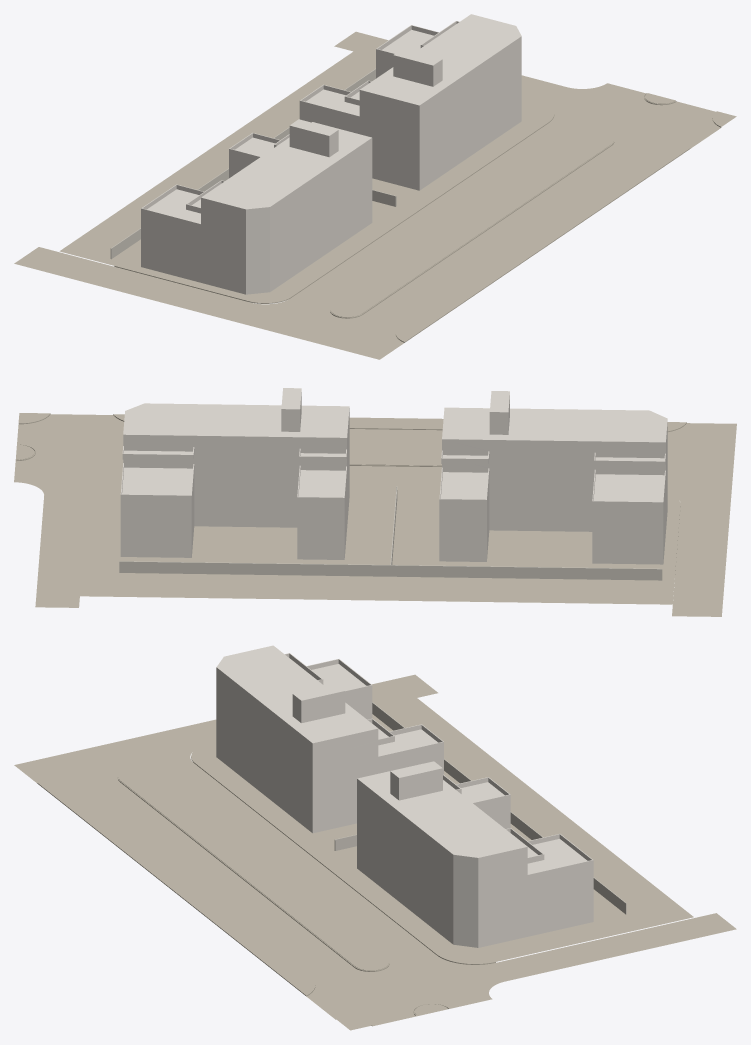
The picture shows the model from 3 angles, top to bottom: view 1: azimuth 30°, elevation 25°; view 2: azimuth 150°, elevation 25°; view 3: azimuth 270°, elevation 25°; orthographic projection. The views are drawn at different scales.
Parts seen in each view (by area): view 1: entorno_suelo, B0_edif, B1_edif, B0_suelo, B1_suelo, entorno_cerco; view 2: entorno_suelo, B1_edif, B0_edif, entorno_cerco, B1_suelo, B0_suelo; view 3: entorno_suelo, B1_edif, B0_edif, B1_suelo, B0_suelo, entorno_cerco.
Part boxes in pixels (x1,y1,x2,y2): entorno_suelo: (14,31,736,359); B0_edif: (141,119,372,294); B1_edif: (299,14,521,190); B0_suelo: (59,217,400,302); B1_suelo: (336,51,554,201); entorno_cerco: (111,68,396,258); entorno_suelo: (14,413,736,616); B1_edif: (120,388,349,559); B0_edif: (439,391,667,564); entorno_cerco: (119,486,662,580); B1_suelo: (80,483,366,596); B0_suelo: (428,487,680,604); entorno_suelo: (14,674,736,1030); B1_edif: (357,761,593,947); B0_edif: (216,645,443,833); B1_suelo: (327,862,693,963); B0_suelo: (191,697,421,844); entorno_cerco: (334,702,626,914).
Bounding box in the file's own units: 136 × 20.15 × 116.
